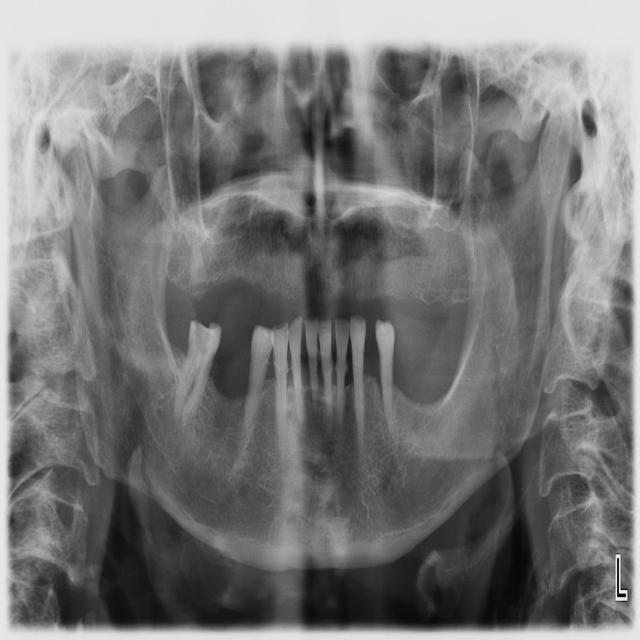mandibula: (58, 102, 571, 573)
